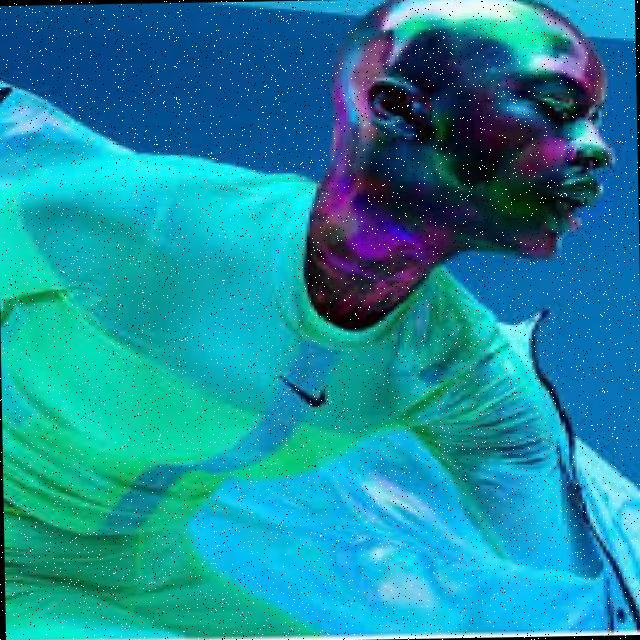Nike: (279, 365, 338, 409)
